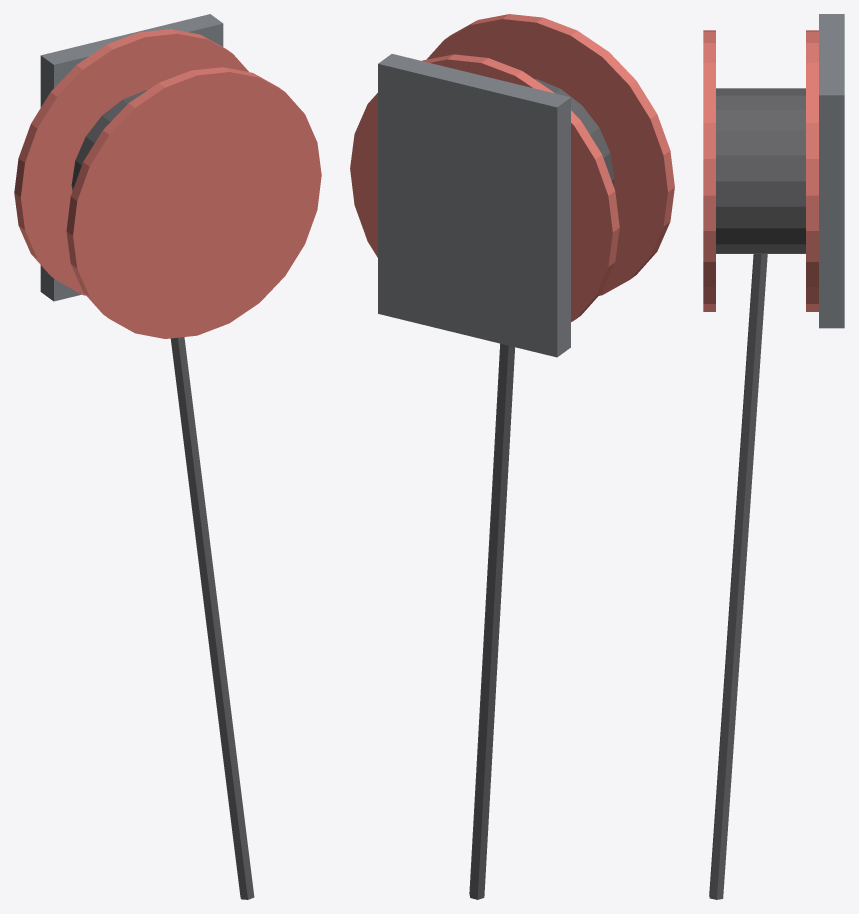
Rendered from hose_reel.glb.
The picture shows the model from 3 angles, left to right: view 1: azimuth 30°, elevation 25°; view 2: azimuth 150°, elevation 25°; view 3: azimuth 270°, elevation 25°; orthographic projection. The views are drawn at different scales.
Visible parts, largest first — view 1: hose_reel_tool_r, hose_reel_dark, hose_reel_steel_d; view 2: hose_reel_steel_d, hose_reel_tool_r, hose_reel_dark; view 3: hose_reel_dark, hose_reel_steel_d, hose_reel_tool_r.
Part boxes in pixels (<box>): hose_reel_tool_r: <box>14,29,321,338</box>; hose_reel_dark: <box>71,90,254,899</box>; hose_reel_steel_d: <box>40,14,223,301</box>; hose_reel_steel_d: <box>378,54,570,357</box>; hose_reel_tool_r: <box>350,14,674,321</box>; hose_reel_dark: <box>469,78,614,899</box>; hose_reel_dark: <box>709,88,805,899</box>; hose_reel_steel_d: <box>819,14,844,328</box>; hose_reel_tool_r: <box>703,30,818,311</box>.
Bounding box in the file's own units: 0.44 × 1.42 × 0.22.
